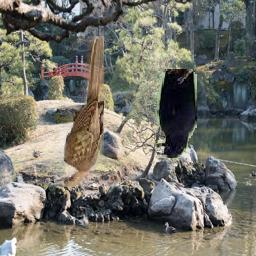Crow: (153, 70, 198, 159)
Cuckoo: (54, 37, 104, 188)
